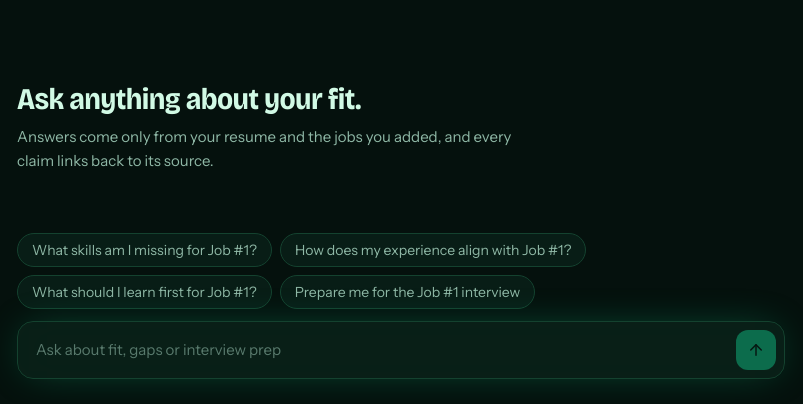
Scenario: ChatPanel › streams the answer and renders citations as pills
This screenshot has width=803, height=404.
Type "What am I missing?" into the text box named "Ask a question" at (377,350), box [26,330,728,370]
Then press Enter
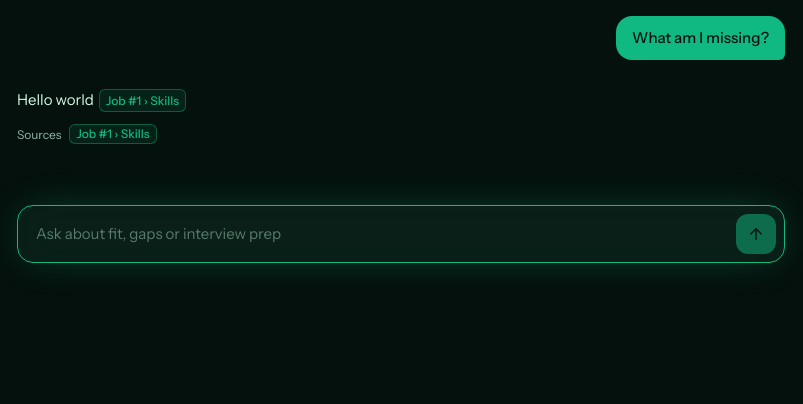
Expected: the text "Hello world Job #1 › Skills" is shown, [17,89,186,112]
Expected: the button "Job #1 › Skills" next to "Hello world" is shown, [99,89,186,112]
